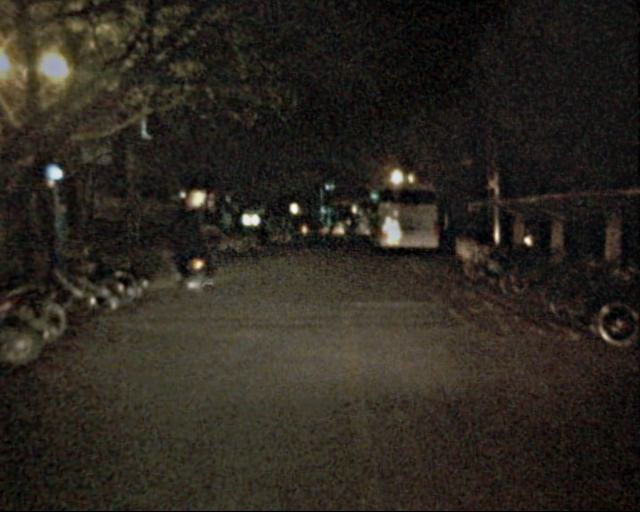person: (177, 220, 204, 287), (198, 213, 222, 272), (338, 219, 359, 245), (253, 214, 268, 250)
